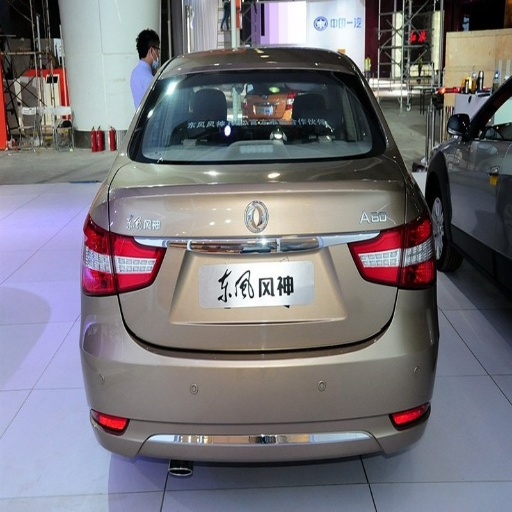back_bumper: (71, 269, 436, 457)
